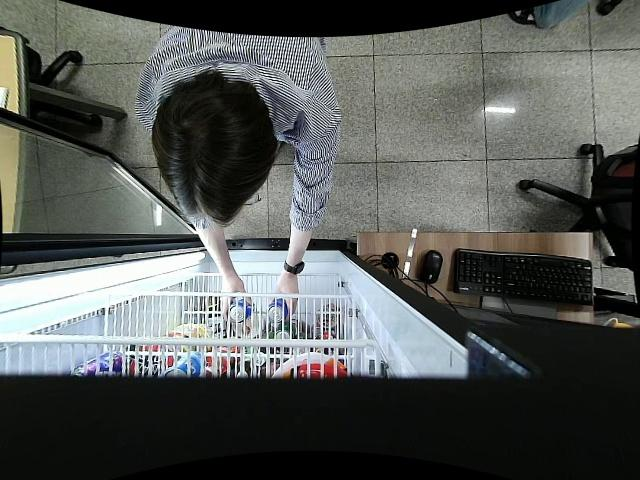00_hand: (215, 278, 252, 325), (270, 274, 298, 315)
13_pocariSweat: (229, 298, 251, 324), (266, 298, 288, 323)
